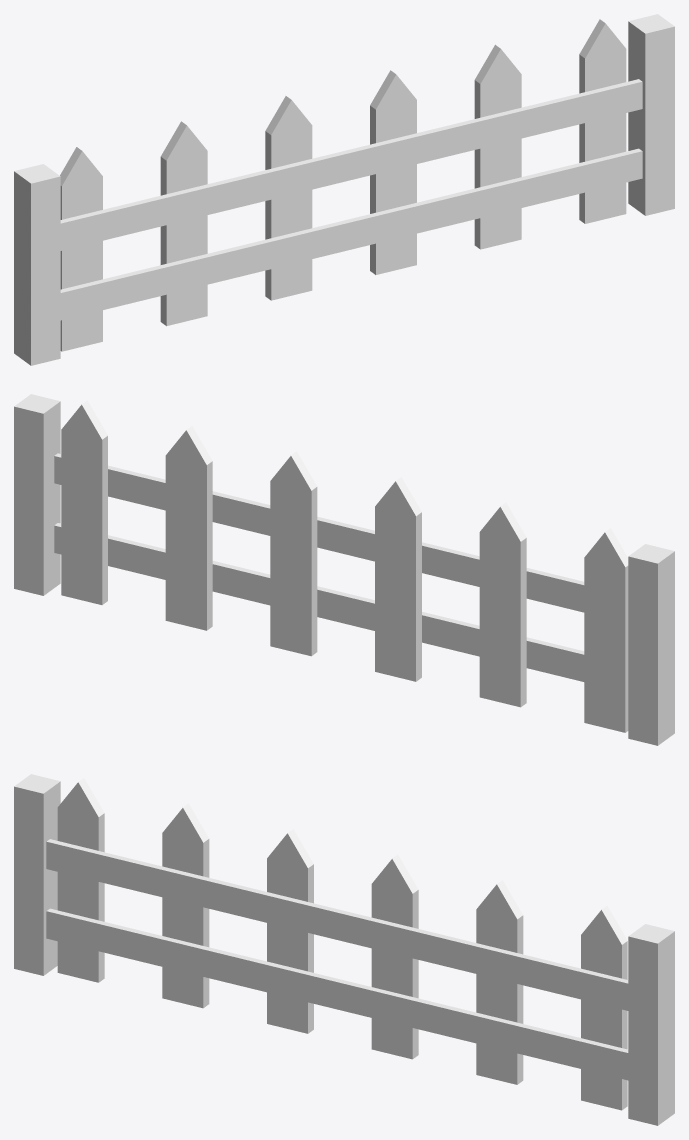
File: FenceTile_1.fbx
3 views of the same model, one above another, from view 1: azimuth 30°, elevation 25°; view 2: azimuth 150°, elevation 25°; view 3: azimuth 330°, elevation 25° (orthographic).
Visible parts, largest first — view 1: FenceTile_1; view 2: FenceTile_1; view 3: FenceTile_1.
Part boxes in pixels (bbox=[...]): FenceTile_1: bbox=[14, 14, 674, 365]; FenceTile_1: bbox=[14, 394, 674, 745]; FenceTile_1: bbox=[14, 774, 674, 1125].
Bounding box in the file's own units: 421 × 123 × 19.36.
